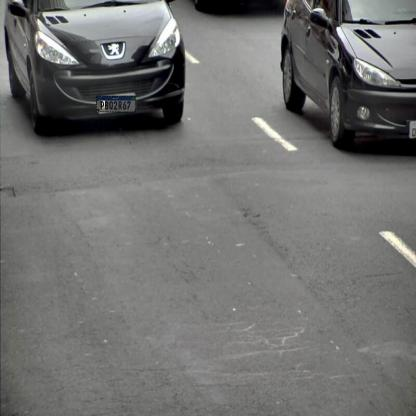PlacaM: (96, 96, 136, 112)
